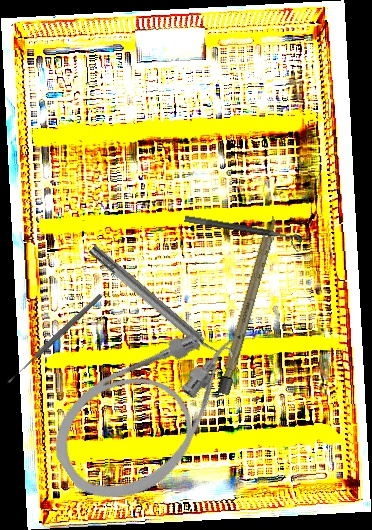Cannula: (34, 304, 279, 523)
Fixation Ring: (83, 236, 236, 375), (182, 214, 303, 253)
Scalpel Handle: (217, 214, 280, 396)
Surgical Spoon: (4, 291, 105, 386)
